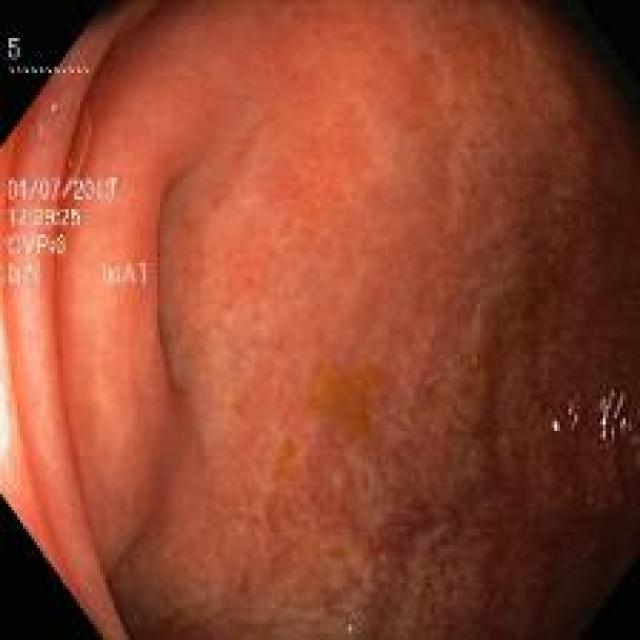ulcerative-colitis-grade-1: (110, 4, 640, 638)
